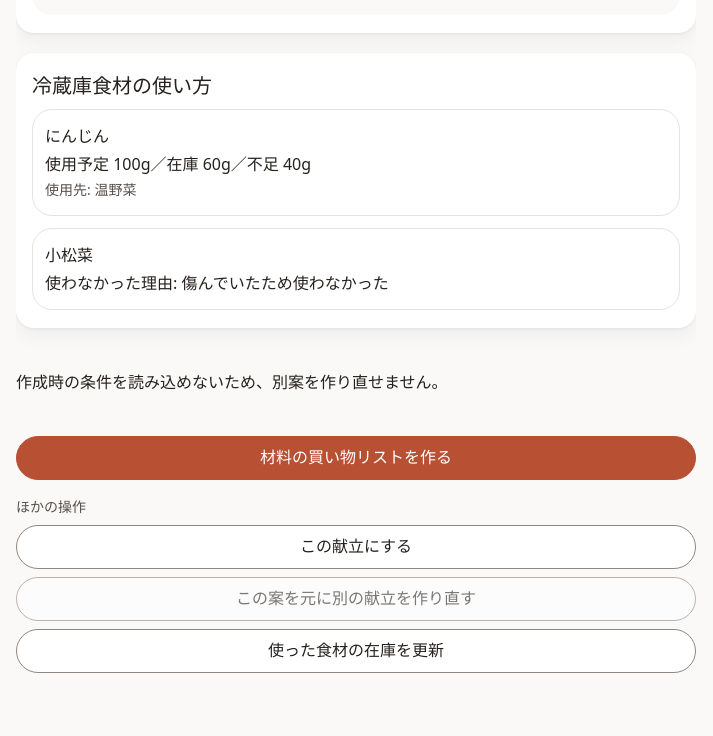
HistoryDetailPage safety gate › after accept, promotes shopping list as the primary next step
(page scrolled)
Check: the button named "この献立にする" is enabled, box [16,436,696,480]
Step 1. Click the button "この献立にする" → coordinates (356, 547), box [16,525,696,569]
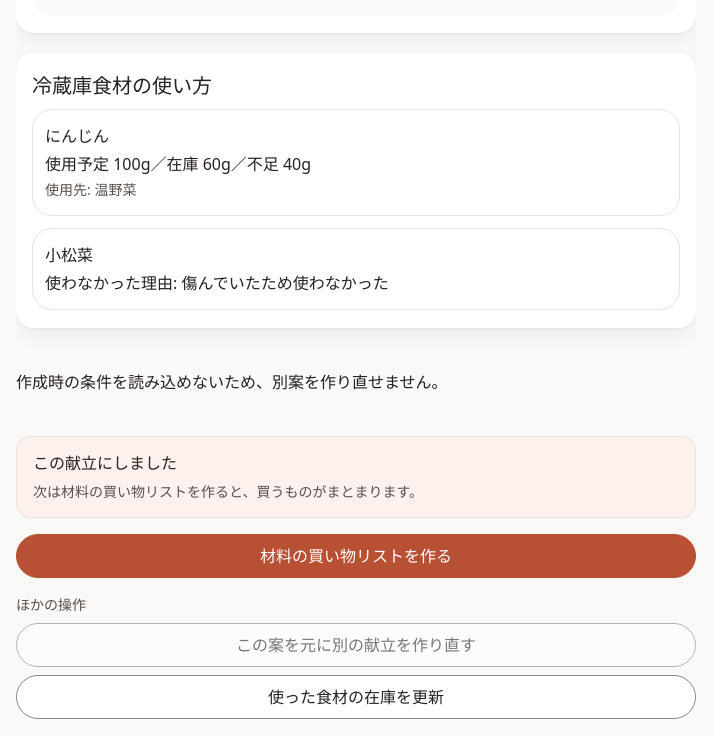
Check: the button "材料の買い物リストを作る" is enabled, box [16,534,696,578]
Check: the text "次は材料の買い物リストを作ると、買うものがまとまります。" is shown, box [33,482,423,501]
Check: the button "この献立にする" is gone
